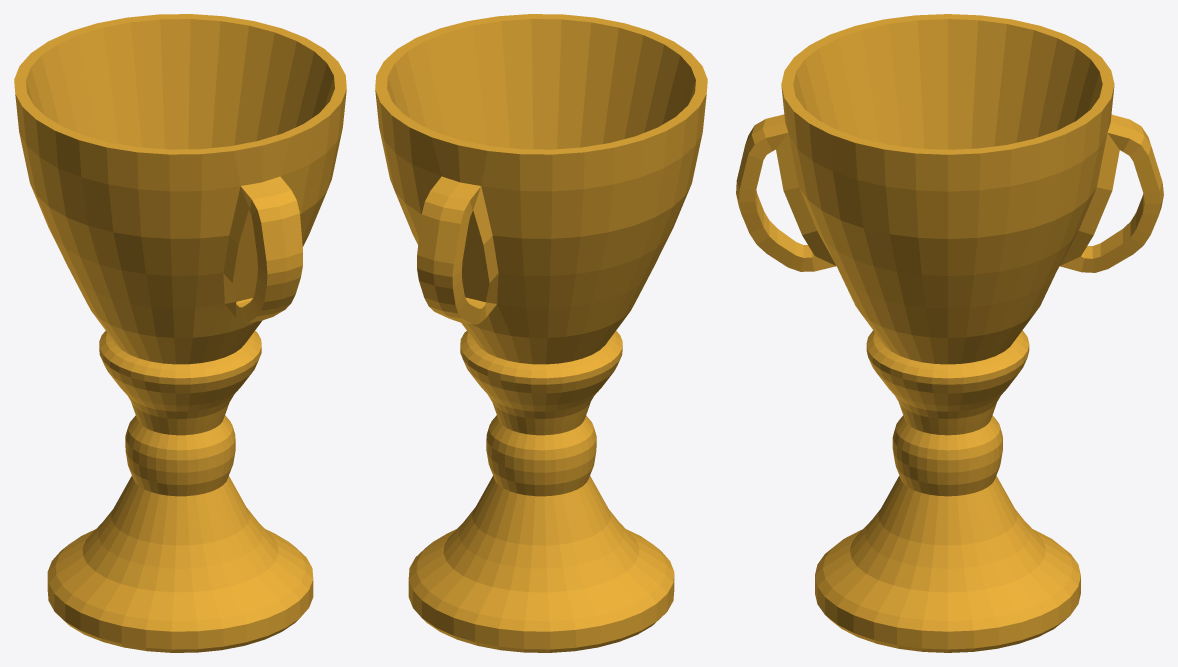
The model's file is trophy.fbx.
The picture shows the model from 3 angles, left to right: view 1: azimuth 30°, elevation 25°; view 2: azimuth 150°, elevation 25°; view 3: azimuth 270°, elevation 25°; orthographic projection.
Visible parts, largest first — view 1: trophy; view 2: trophy; view 3: trophy.
Part boxes in pixels (x1=…): trophy: x1=14, y1=14, x2=346, y2=652; trophy: x1=375, y1=14, x2=707, y2=652; trophy: x1=736, y1=14, x2=1163, y2=652.
Bounding box in the file's own units: 26.01 × 44.32 × 33.41.
